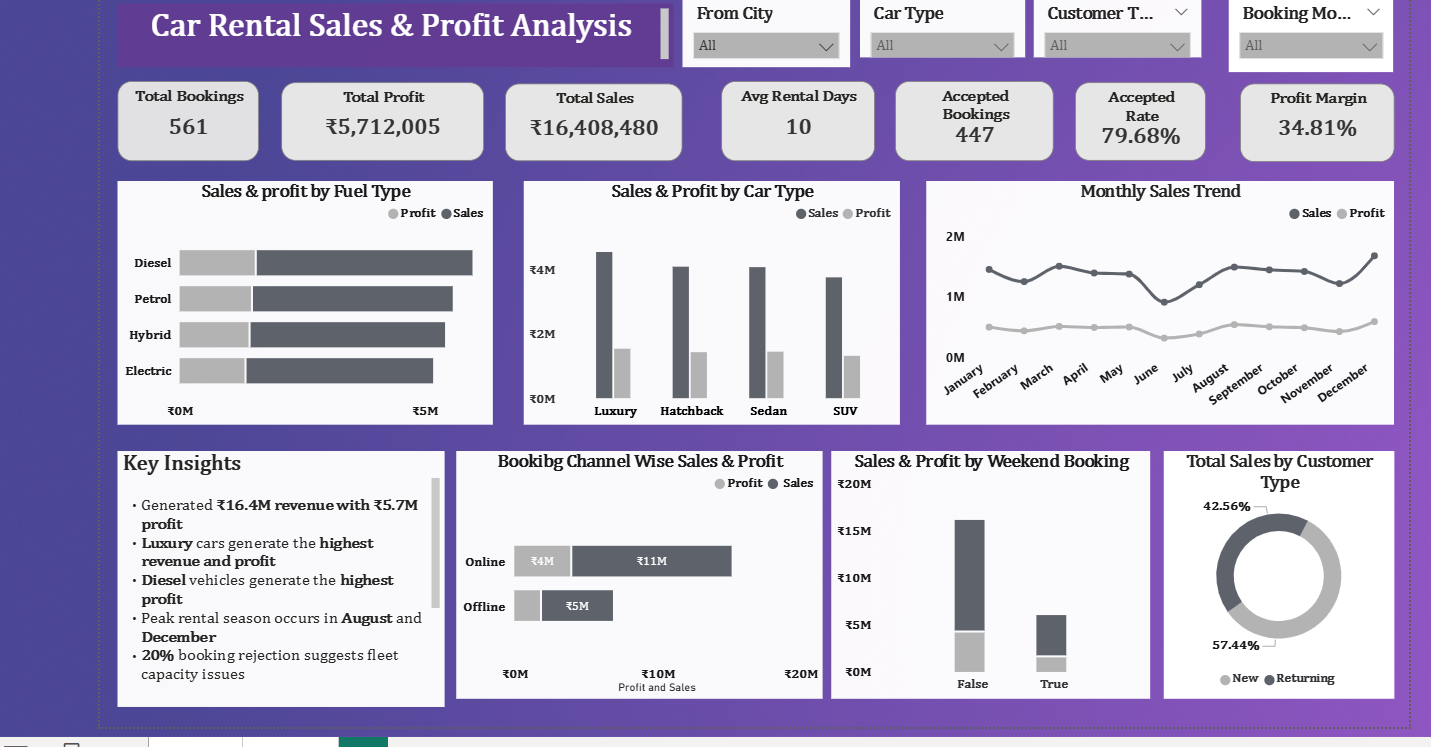

The page's visual inventory and layout, read from the dashboard file:
{"tool":"powerbi","page":{"name":"Page 1","canvas":[1280,720],"ordinal":0},"visuals":[{"type":"textbox","box":[17.1,12.2,544.2,62.4],"z":0},{"type":"card","title":"Total Bookings","fields":{"Values":["Rent Car Sales Analysis.Total Boolings"]},"box":[17.1,88,138.2,78.3],"z":1000},{"type":"card","title":"Total Sales","fields":{"Values":["Rent Car Sales Analysis.Total Sales"]},"box":[396.2,90.5,173.6,75.8],"z":2000},{"type":"card","title":"Total Profit","fields":{"Values":["Rent Car Sales Analysis.Total Profit"]},"box":[177.3,89.3,198.1,77],"z":3000},{"type":"card","title":"Accepted Bookings","fields":{"Values":["Rent Car Sales Analysis.Accepted Bookings"]},"box":[777.7,88,155.3,78.3],"z":4000},{"type":"card","title":"Accepted Rate","fields":{"Values":["Rent Car Sales Analysis.Accepted Rate%"]},"box":[953.8,89.3,128.4,77],"z":5000},{"type":"lineChart","title":"Monthly Sales Trend","fields":{"Y":["Sum(Rent Car Sales Analysis.Sales_Amount)","Sum(Rent Car Sales Analysis.Profit)"],"Category":["Rent Car Sales Analysis.Booking_Month"]},"box":[808.3,185.9,457.3,238.5],"z":6000},{"type":"clusteredColumnChart","title":"Sales & Profit by Car Type","fields":{"Category":["Rent Car Sales Analysis.Car_Type"],"Y":["Rent Car Sales Analysis.Total Sales","Rent Car Sales Analysis.Total Profit"]},"box":[414.5,185.9,368.1,238.5],"z":7000},{"type":"barChart","title":"Bookibg Channel Wise Sales & Profit","fields":{"Category":["Rent Car Sales Analysis.Booking_Channel"],"Y":["Rent Car Sales Analysis.Total Profit","Rent Car Sales Analysis.Total Sales"]},"box":[348.3,449.7,358.4,242.3],"z":8000},{"type":"barChart","title":"Sales & profit by Fuel Type","fields":{"Category":["Rent Car Sales Analysis.Fuel_Type"],"Y":["Rent Car Sales Analysis.Total Profit","Rent Car Sales Analysis.Total Sales"]},"box":[17.1,185.9,366.8,238.5],"z":9000},{"type":"columnChart","title":"Sales & Profit by Weekend Booking","fields":{"Category":["Rent Car Sales Analysis.Weekend_Booking"],"Y":["Rent Car Sales Analysis.Total Profit","Rent Car Sales Analysis.Total Sales"]},"box":[715.7,449.7,312.2,242.3],"z":10000},{"type":"slicer","fields":{"Values":["Rent Car Sales Analysis.From_City"]},"box":[569.8,7.3,163.9,67.3],"z":11000},{"type":"card","title":"Profit Margin","fields":{"Values":["Rent Car Sales Analysis.Profit Margin%"]},"box":[1114.7,90.2,151,76.6],"z":12000},{"type":"slicer","fields":{"Values":["Rent Car Sales Analysis.Car_Type"]},"box":[743.5,7.3,161.4,57.5],"z":13000},{"type":"slicer","fields":{"Values":["Rent Car Sales Analysis.Customer_Type"]},"box":[913.5,7.3,163.9,57.5],"z":14000},{"type":"donutChart","title":"Total Sales by Customer Type","fields":{"Y":["Rent Car Sales Analysis.Total Sales"],"Category":["Rent Car Sales Analysis.Customer_Type"]},"box":[1040.3,449.7,225.4,242.3],"z":15000},{"type":"slicer","fields":{"Values":["Rent Car Sales Analysis.Booking_Month"]},"box":[1104.6,7.9,161.2,72.1],"z":16000},{"type":"card","title":"Avg Rental Days","fields":{"Values":["Rent Car Sales Analysis.Avg Rental Duration"]},"box":[607.7,88,150.4,78.3],"z":17000},{"type":"textbox","title":"Key Insights","box":[17.1,450,320.4,250.7],"z":18000}]}

Visuals, with their boxes in screenshot pixels (x1, y1, x2, y2):
textbox: [x1=114, y1=1, x2=670, y2=65]
"Total Bookings" card: [x1=114, y1=79, x2=255, y2=159]
"Total Sales" card: [x1=501, y1=81, x2=679, y2=159]
"Total Profit" card: [x1=278, y1=80, x2=480, y2=159]
"Accepted Bookings" card: [x1=891, y1=79, x2=1049, y2=159]
"Accepted Rate" card: [x1=1071, y1=80, x2=1202, y2=159]
"Monthly Sales Trend" lineChart: [x1=922, y1=179, x2=1389, y2=422]
"Sales & Profit by Car Type" clusteredColumnChart: [x1=520, y1=179, x2=896, y2=422]
"Bookibg Channel Wise Sales & Profit" barChart: [x1=452, y1=448, x2=818, y2=695]
"Sales & profit by Fuel Type" barChart: [x1=114, y1=179, x2=489, y2=422]
"Sales & Profit by Weekend Booking" columnChart: [x1=828, y1=448, x2=1146, y2=695]
slicer - Rent Car Sales Analysis.From_City: [x1=679, y1=0, x2=846, y2=65]
"Profit Margin" card: [x1=1235, y1=81, x2=1389, y2=159]
slicer - Rent Car Sales Analysis.Car_Type: [x1=856, y1=0, x2=1021, y2=55]
slicer - Rent Car Sales Analysis.Customer_Type: [x1=1029, y1=0, x2=1197, y2=55]
"Total Sales by Customer Type" donutChart: [x1=1159, y1=448, x2=1389, y2=695]
slicer - Rent Car Sales Analysis.Booking_Month: [x1=1225, y1=0, x2=1389, y2=70]
"Avg Rental Days" card: [x1=717, y1=79, x2=871, y2=159]
"Key Insights" textbox: [x1=114, y1=448, x2=441, y2=704]
